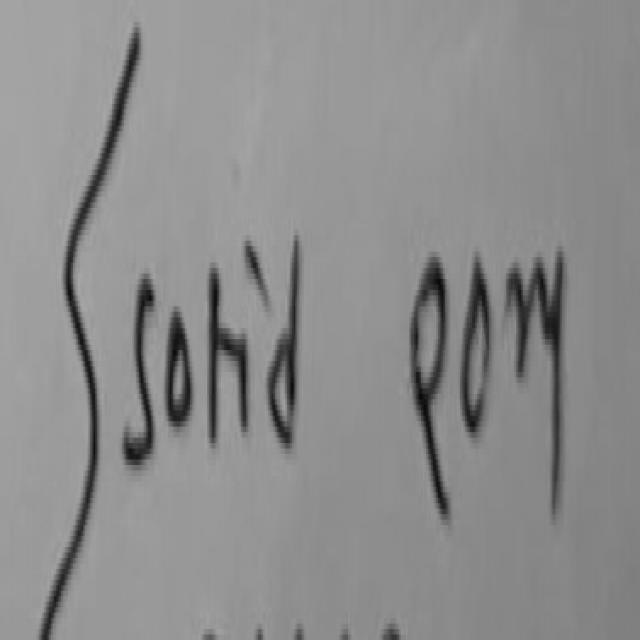0: (462, 282, 491, 429)
2: (415, 257, 450, 511)
E: (41, 27, 139, 637)
d: (267, 240, 299, 450)
i: (246, 243, 261, 289), (240, 339, 248, 424)
m: (508, 252, 565, 371)
o: (166, 312, 192, 424)
s: (122, 279, 155, 468)
t: (209, 268, 238, 440)
